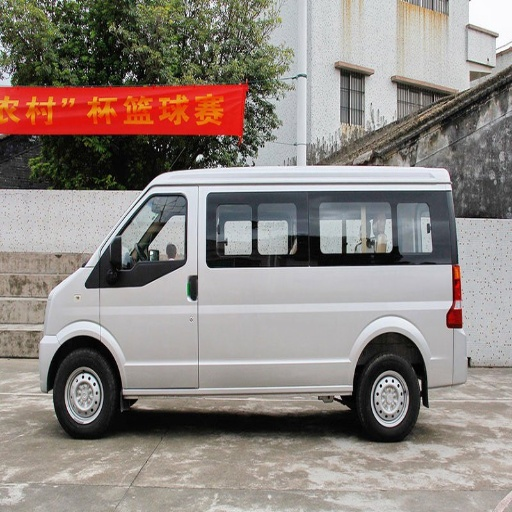back_left_door: (276, 311, 321, 382)
trunk: (309, 269, 460, 385)
